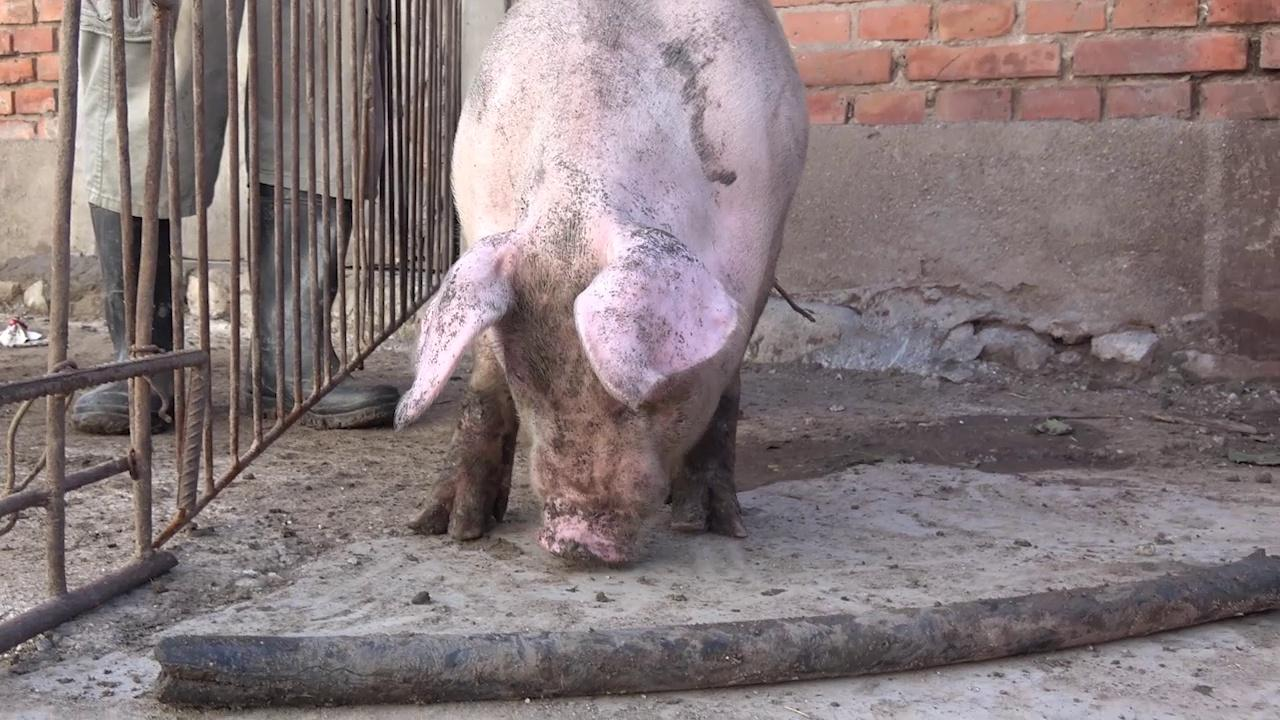Face: (393, 229, 774, 588)
